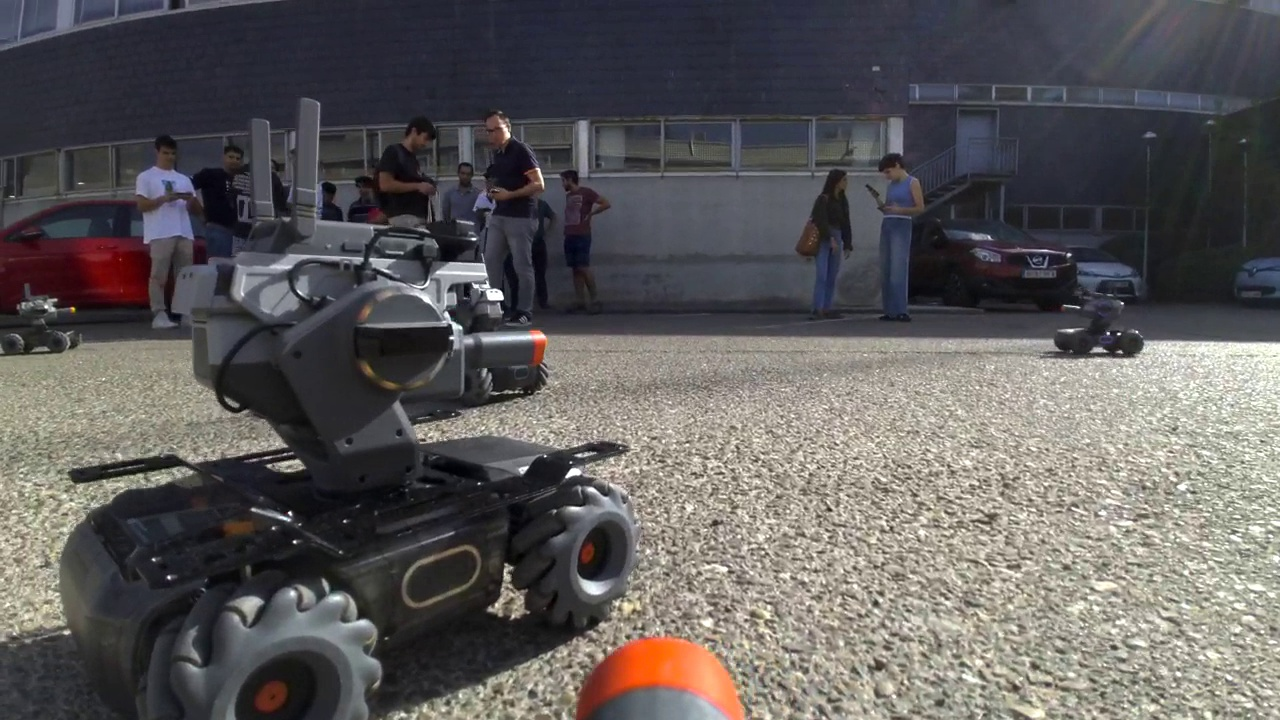robot: (56, 94, 634, 720), (1056, 288, 1147, 359)
